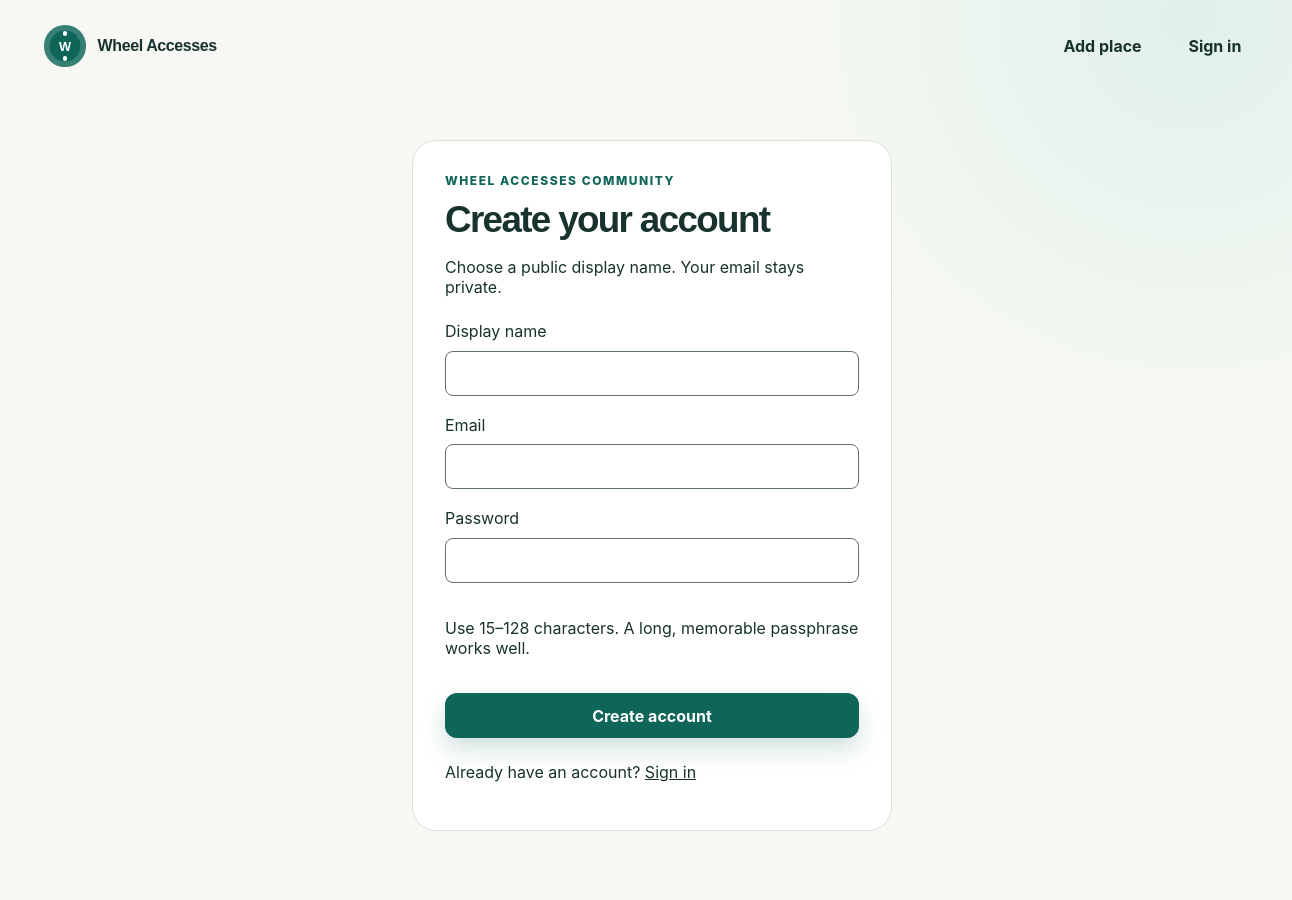
Test: registers through the service, shows account state and writes no browser storage
Expected: the button "Create account" is enabled, top-left (445, 693), bottom-right (859, 738)
In the field labelled "Display name": (652, 373) top-left (445, 351), bottom-right (859, 396), type "Test Visitor"
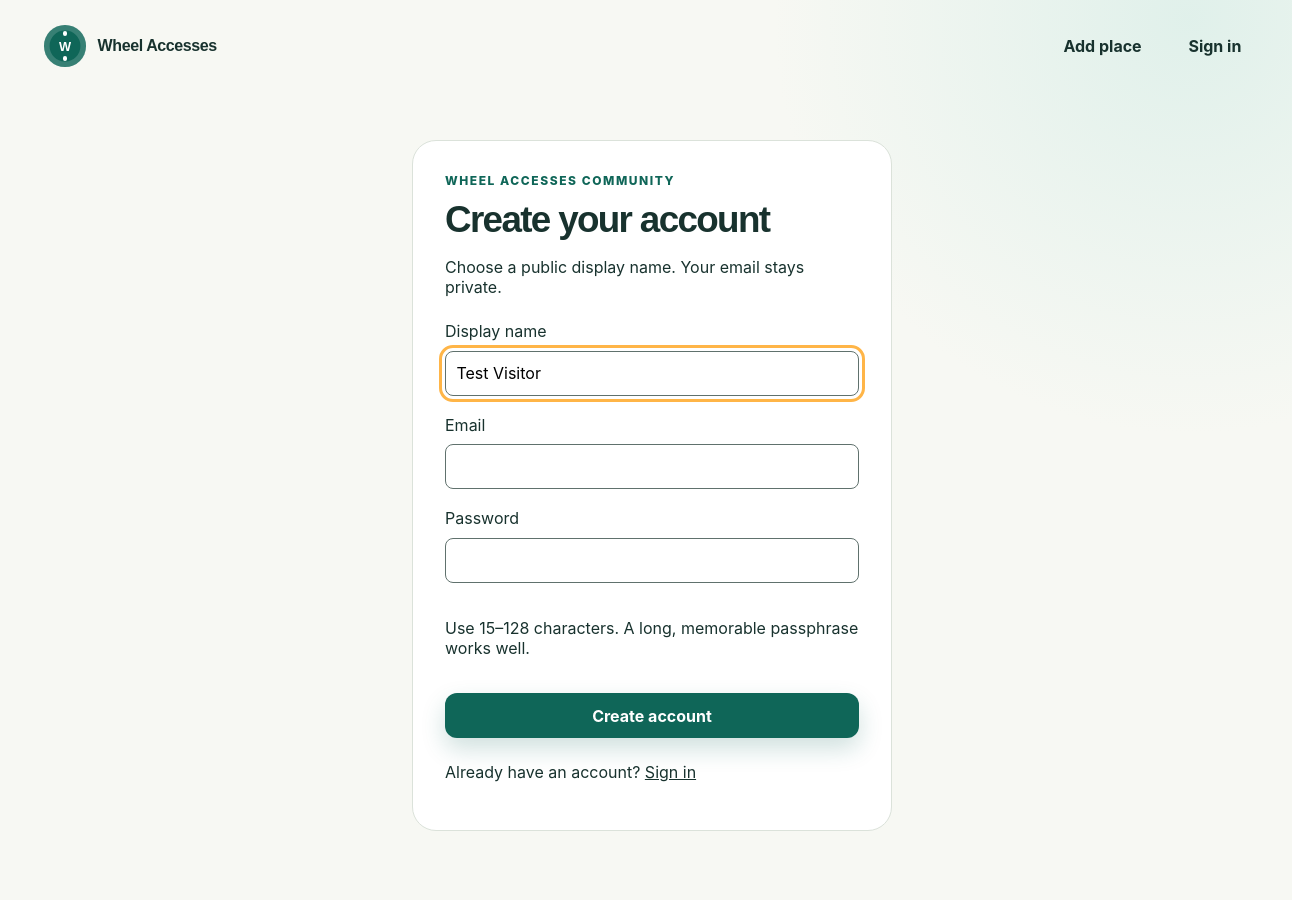
In the field labelled "Email": (652, 467) top-left (445, 444), bottom-right (859, 489), type "visitor@example.test"
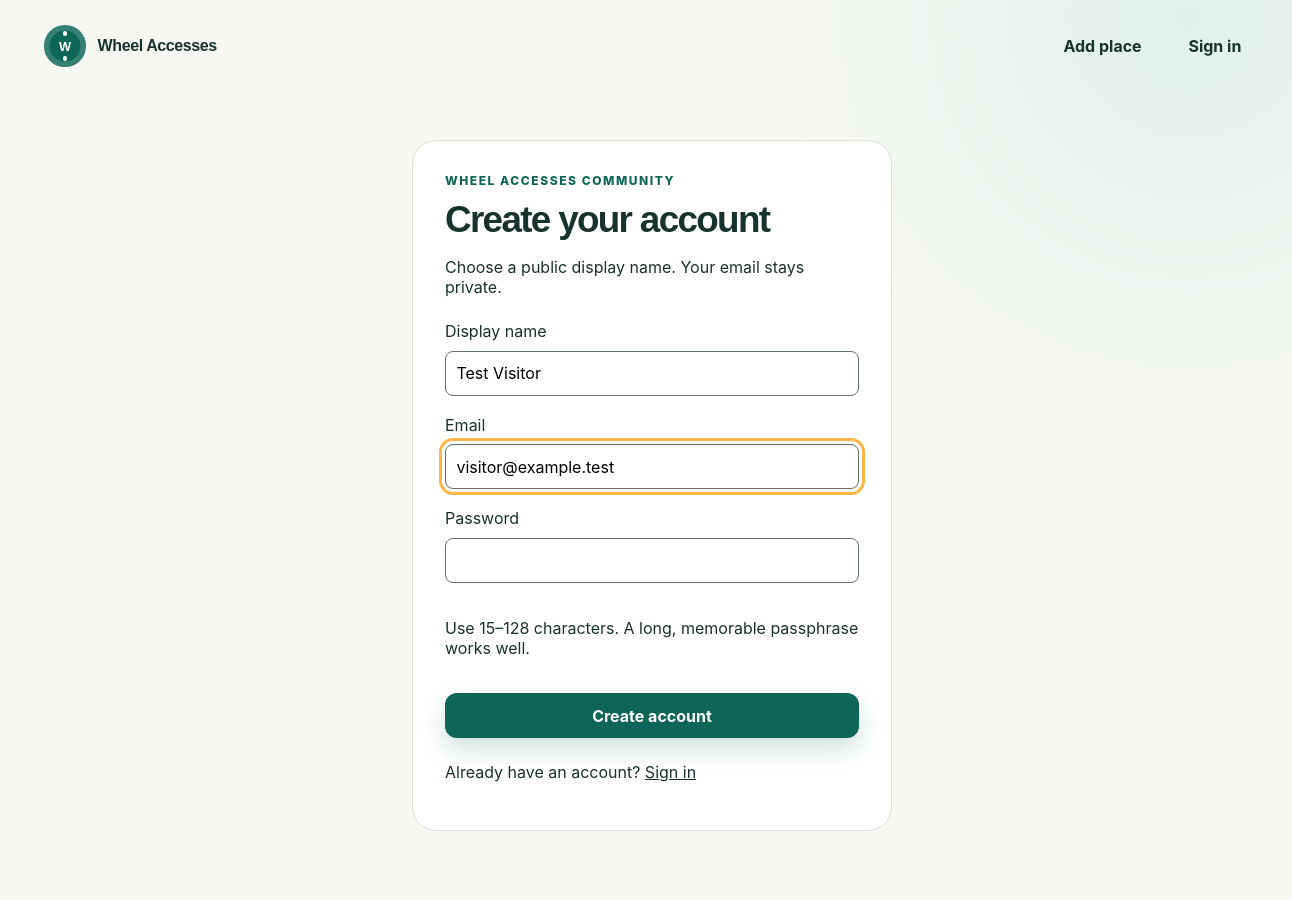
In the password field labelled "Password": (652, 560) top-left (445, 538), bottom-right (859, 583), type "a long test passphrase"
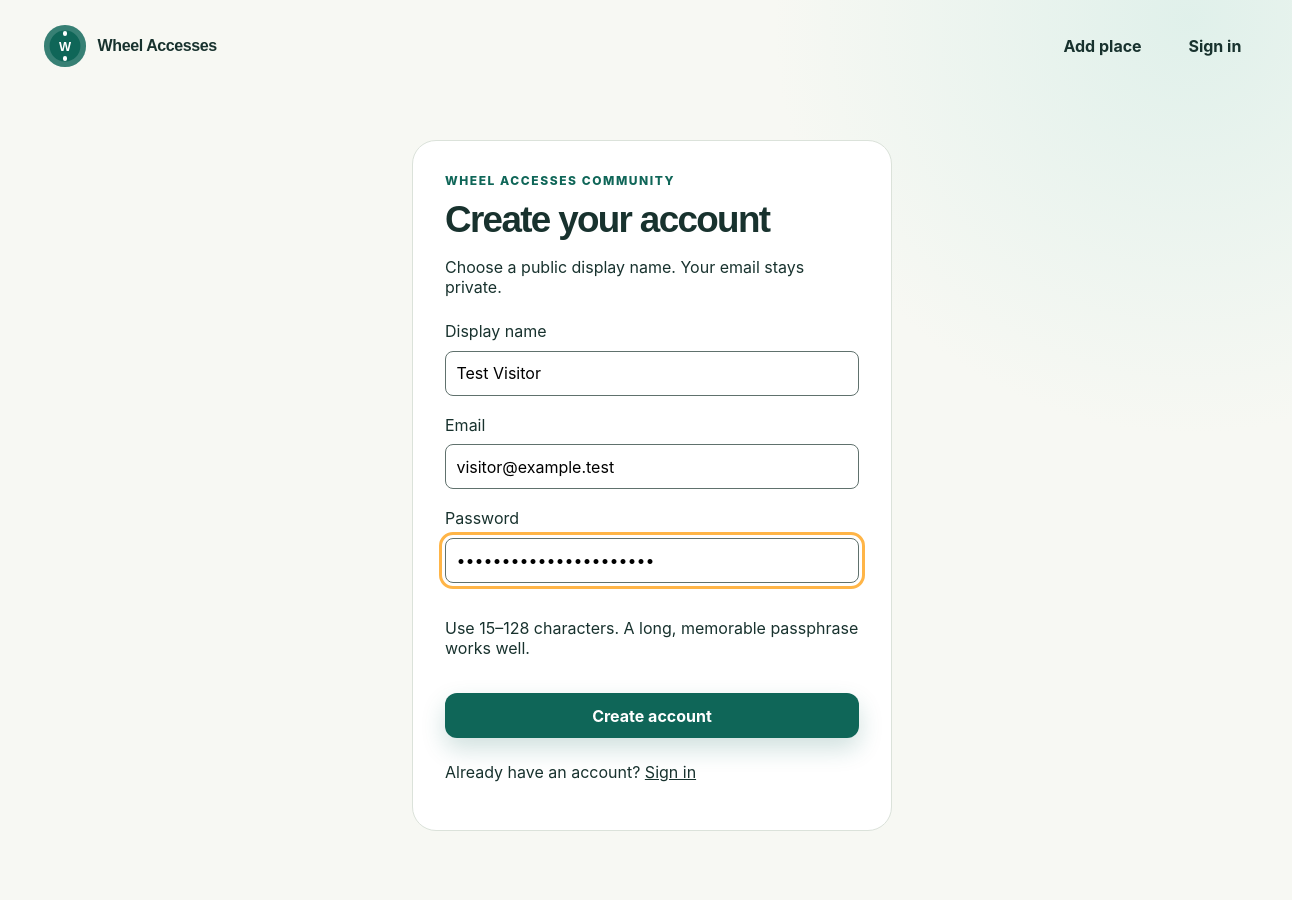
Click the button "Create account": (652, 716) top-left (445, 693), bottom-right (859, 738)
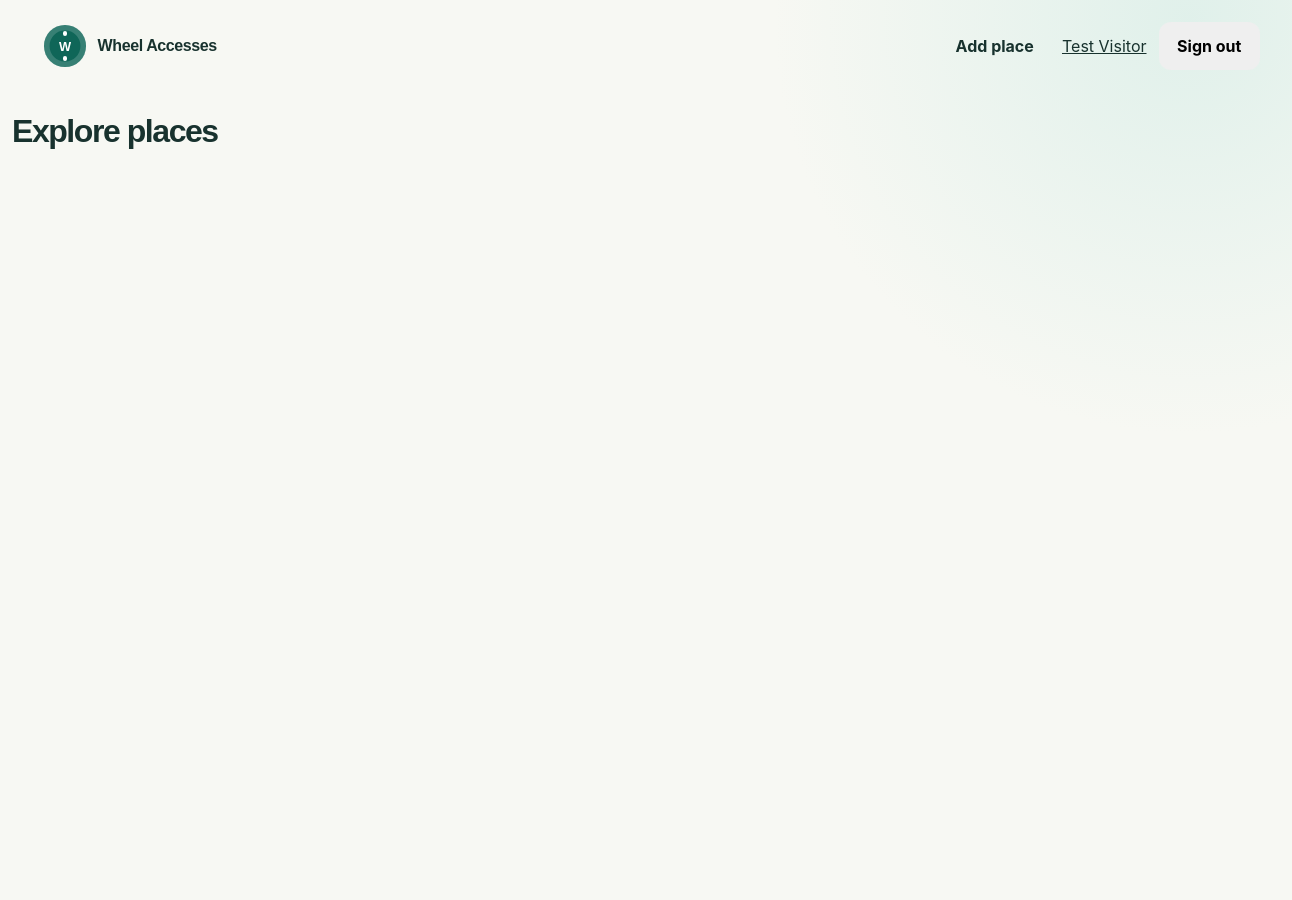
Result: the heading "Explore places" is shown at top-left (12, 113), bottom-right (218, 149)
Result: the link with aria-label "Your account" reads "Test Visitor" at top-left (1062, 36), bottom-right (1146, 56)
